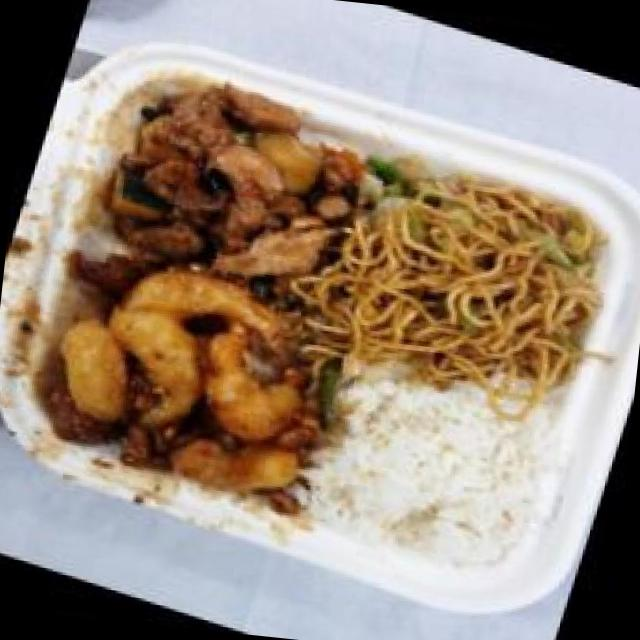Chow Mein: (296, 132, 636, 430)
Honey Walnut Shrimp: (5, 229, 364, 525)
Kung Pao Chicken: (74, 53, 380, 324)
White Steamed Rice: (284, 343, 574, 593)
